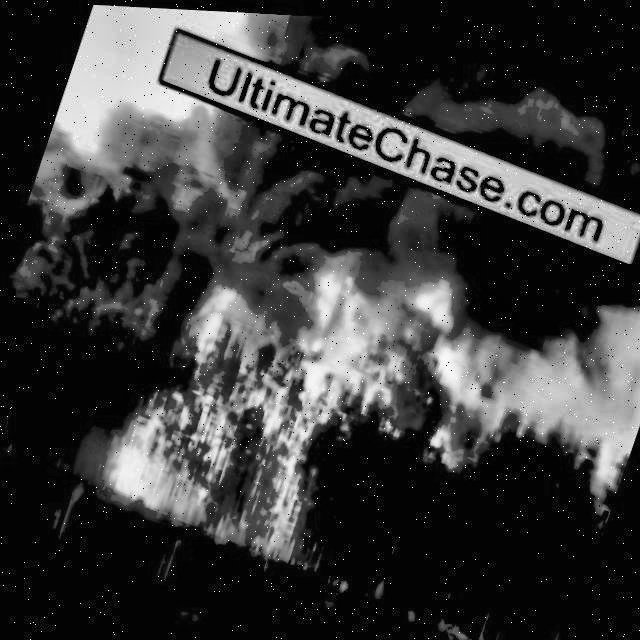Fire: (207, 219, 487, 603), (91, 353, 204, 514), (174, 270, 244, 384)
Smoke: (86, 60, 640, 379), (222, 9, 640, 228), (9, 145, 314, 350), (443, 309, 640, 479)
